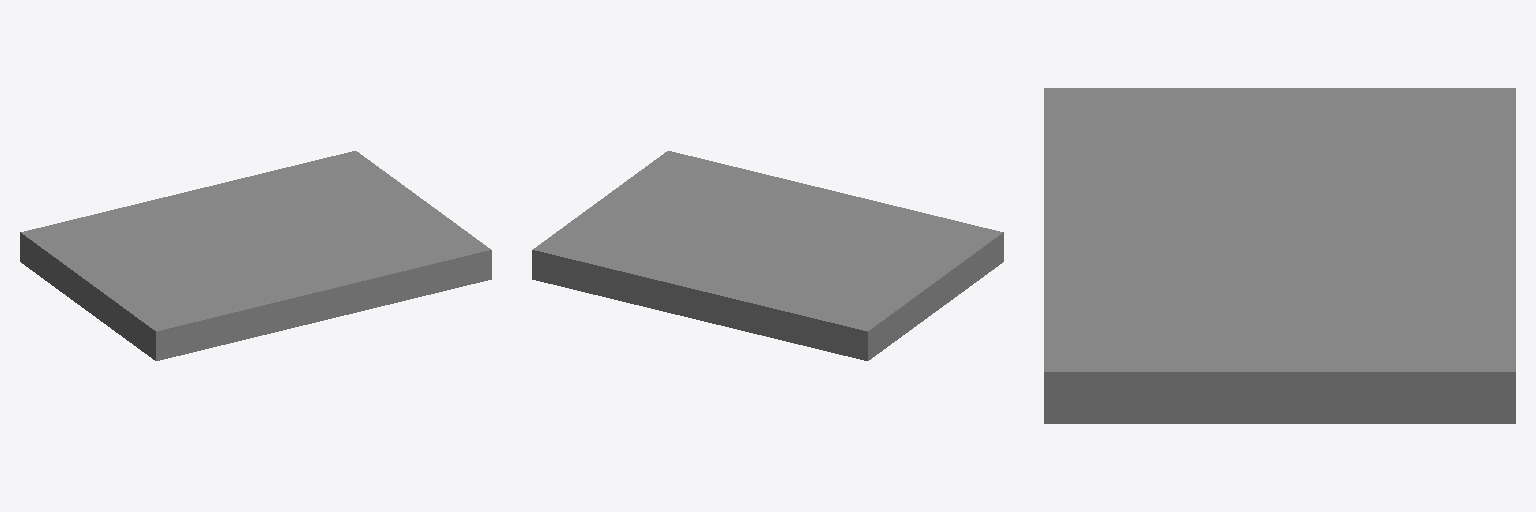
robot.urdf — convoyer:
<robot name="convoyer">
  <link name="convoyer_body">
    <inertial>
      <origin xyz="0 0 .085" rpy="0 0 0" />
      <mass value="0" />
      <inertia ixx="1" ixy="0" ixz="0" iyy="1" iyz="0" izz="1" />
    </inertial>
    <collision>
      <origin xyz="0 0 .085" />
      <geometry>
        <box size="2 1.4 0.17" />
      </geometry>
    </collision>
    <visual>
      <origin xyz="0 0 .085" />
      <material name="c">
        <color rgba="0.6 0.6 0.6 1.0" />
      </material>
      <geometry>
        <box size="2 1.4 0.17" />
      </geometry>
    </visual>
    </link>
</robot>

--- Render facts (derived) ---
The picture shows the robot from 3 angles, left to right: view 1: azimuth 30°, elevation 25°; view 2: azimuth 150°, elevation 25°; view 3: azimuth 270°, elevation 25°; orthographic projection.
Model convoyer with 1 links and 0 joints (none), rooted at convoyer_body, posed all joints at 0.
Links seen in each view (by area): view 1: convoyer_body; view 2: convoyer_body; view 3: convoyer_body.
Boxes of the visible links, <box> form: convoyer_body: <box>20,151,491,360</box>; convoyer_body: <box>532,151,1003,360</box>; convoyer_body: <box>1044,88,1515,423</box>.
Size in the robot's own frame: 2 by 1.4 by 0.17 metres.
Geometry: primitives only (box / cylinder / sphere), no mesh files.